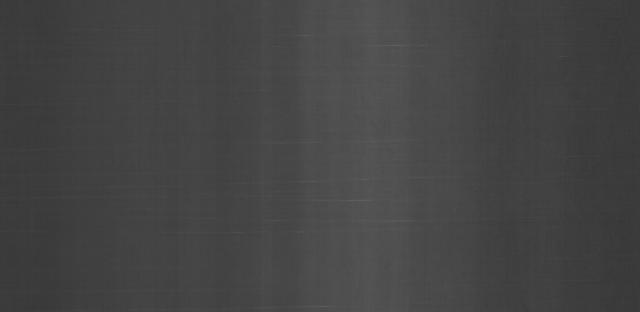waist_folding: (274, 62, 452, 270)
